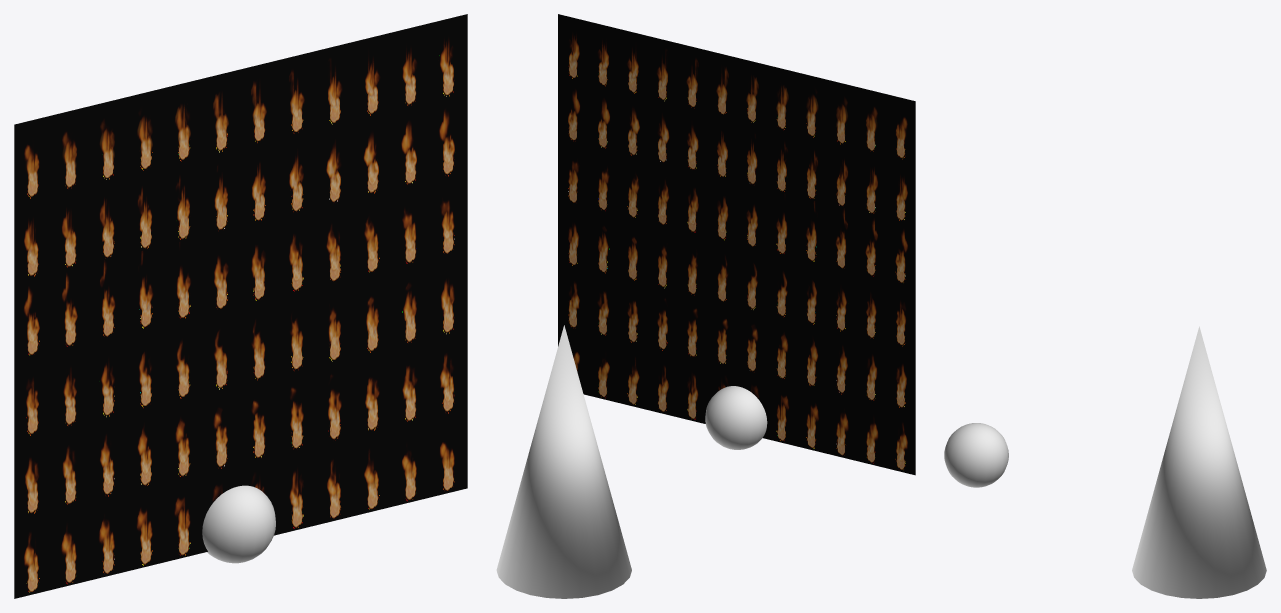
The model's file is texture_flames.004.fbx.
The picture shows the model from 3 angles, left to right: view 1: azimuth 30°, elevation 25°; view 2: azimuth 150°, elevation 25°; view 3: azimuth 270°, elevation 25°; orthographic projection. The views are drawn at different scales.
Parts seen in each view (by area): view 1: Plane, pSphere1; view 2: Plane, Cone, pSphere1; view 3: Cone, pSphere1.
Part boxes in pixels (left/top/right/bottom): Plane: left=14, top=14, right=467, bottom=598; pSphere1: left=202, top=485, right=275, bottom=563; Plane: left=558, top=14, right=915, bottom=475; Cone: left=496, top=325, right=631, bottom=598; pSphere1: left=705, top=386, right=767, bottom=449; Cone: left=1132, top=326, right=1266, bottom=598; pSphere1: left=944, top=423, right=1008, bottom=487.
Size of what is drawn, in the model's own units: 200 by 237 by 157.
Materials: 1 (1 with a texture image).
